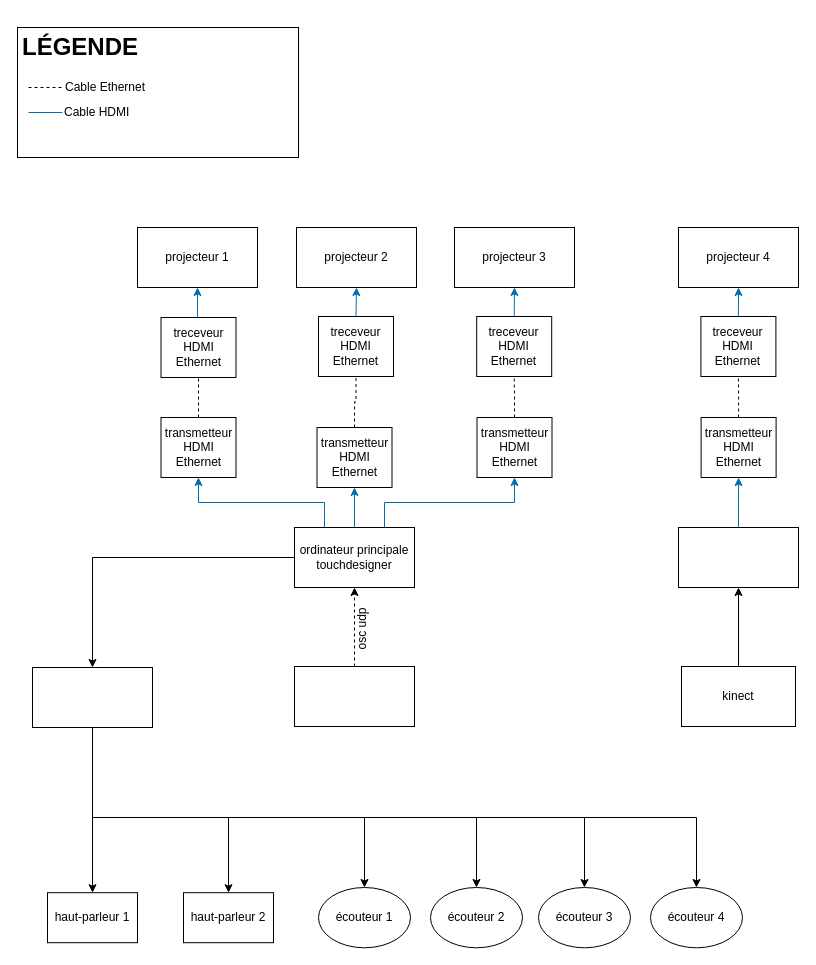
Some shapes in this 816 by 965 pixel diagram are drawn without their labels. Each missing label, with the centre of its shape:
"Atom lite" belongs at (x=354, y=696).
"cartes son" belongs at (x=92, y=697).
"ordinateur secondaire" belongs at (x=738, y=557).
